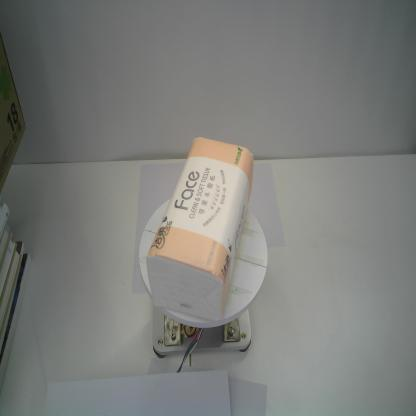Tissue: (146, 136, 254, 323)
